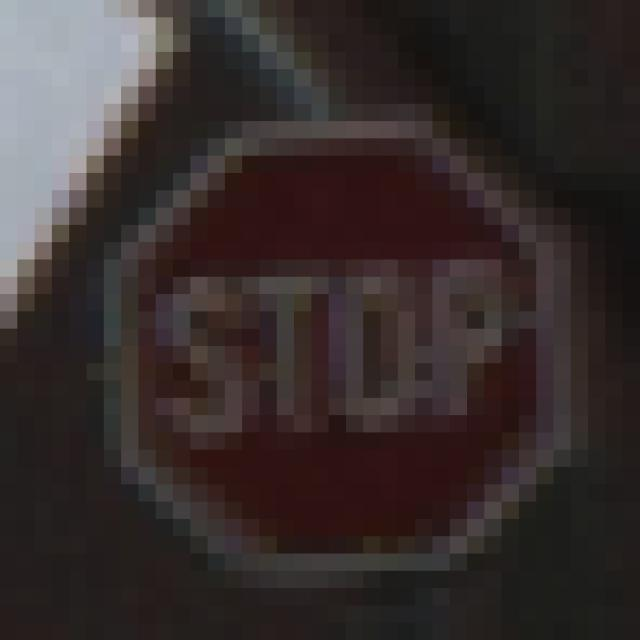STOP: (88, 105, 555, 554)
